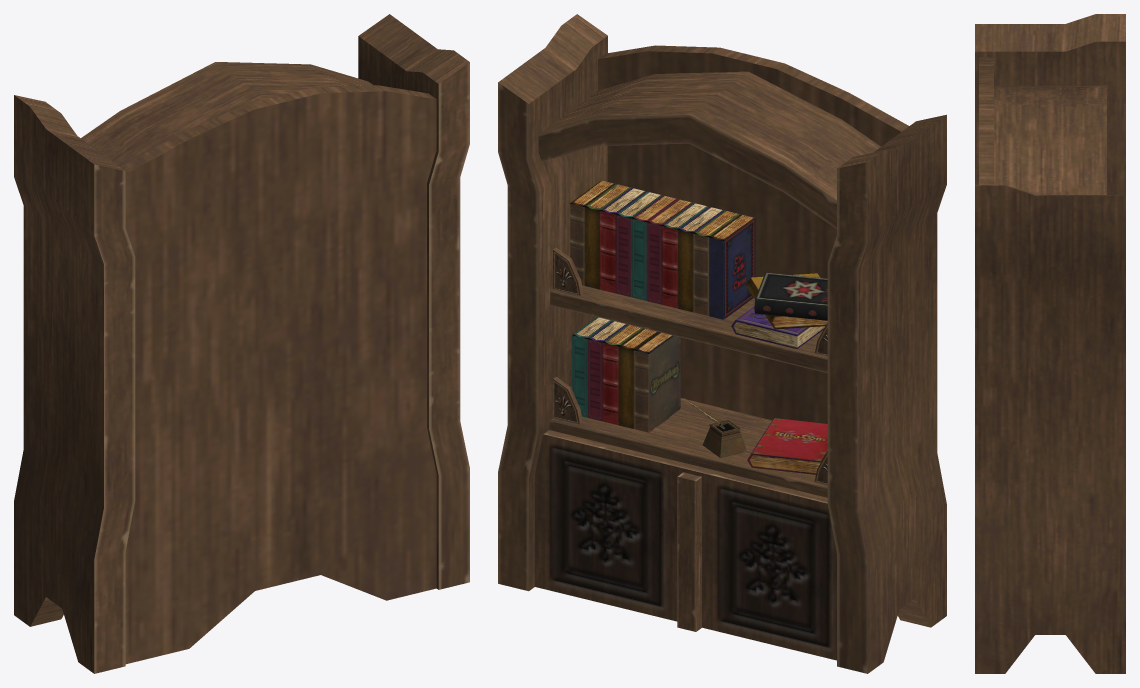
Rendered from door.fbx.
3 views of the same model, side by side, from view 1: azimuth 30°, elevation 25°; view 2: azimuth 150°, elevation 25°; view 3: azimuth 270°, elevation 25° (orthographic). The views are drawn at different scales.
Parts seen in each view (by area): view 1: door; view 2: door, Book_Group_7, Book_Group_3, Book_Gr_Sin_6, Book_6, polySurface9911; view 3: door.
Boxes of the visible parts, bbox=[...] form: door: bbox=[14, 14, 469, 673]; door: bbox=[498, 14, 946, 673]; Book_Group_7: bbox=[569, 180, 755, 319]; Book_Group_3: bbox=[572, 317, 680, 432]; Book_Gr_Sin_6: bbox=[731, 272, 827, 348]; Book_6: bbox=[747, 418, 827, 474]; polySurface9911: bbox=[702, 420, 747, 457]; door: bbox=[975, 14, 1125, 673].
Size of the model in its own units: 3.97 by 5.29 by 1.47.
